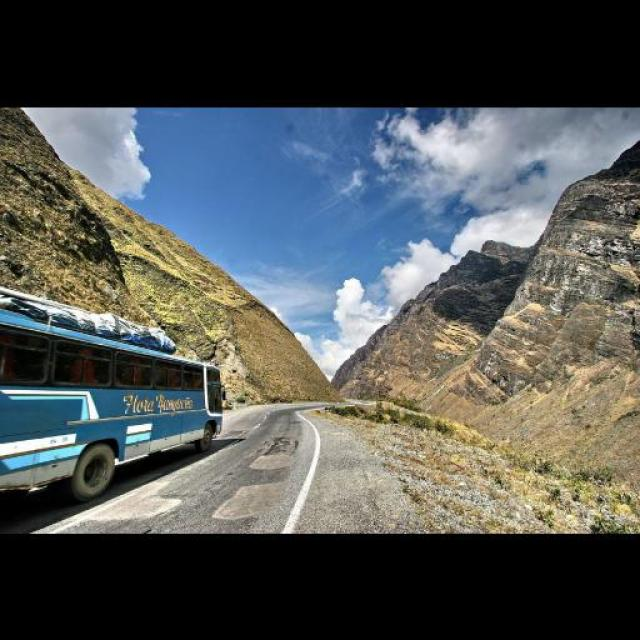Bus: (0, 286, 227, 508)
